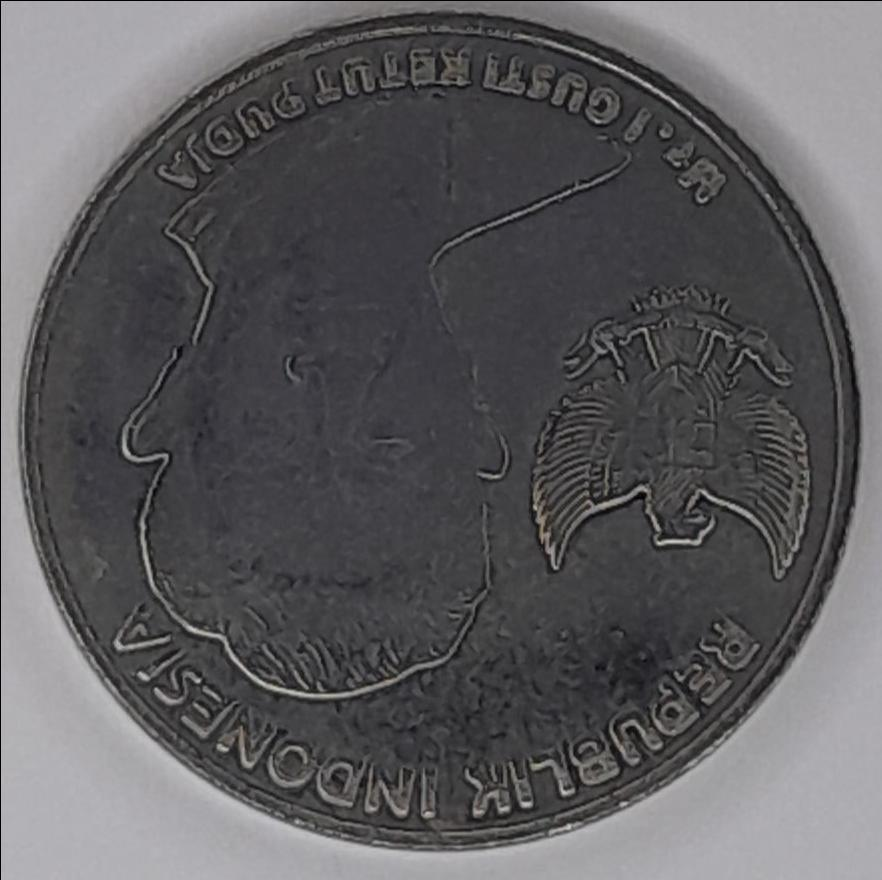coin_1000_e2016: (15, 17, 870, 880)
